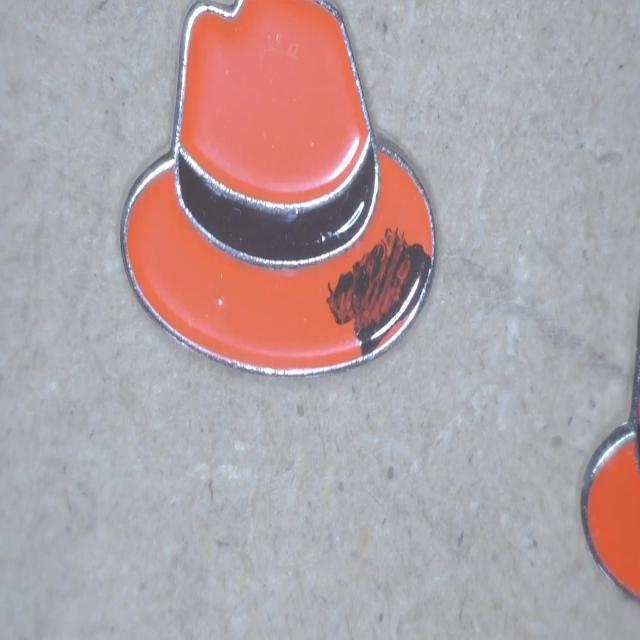Hatband: (178, 142, 379, 267)
Paint_Leak: (328, 229, 431, 352), (589, 442, 640, 596)
RedHatPin: (121, 0, 435, 373)
